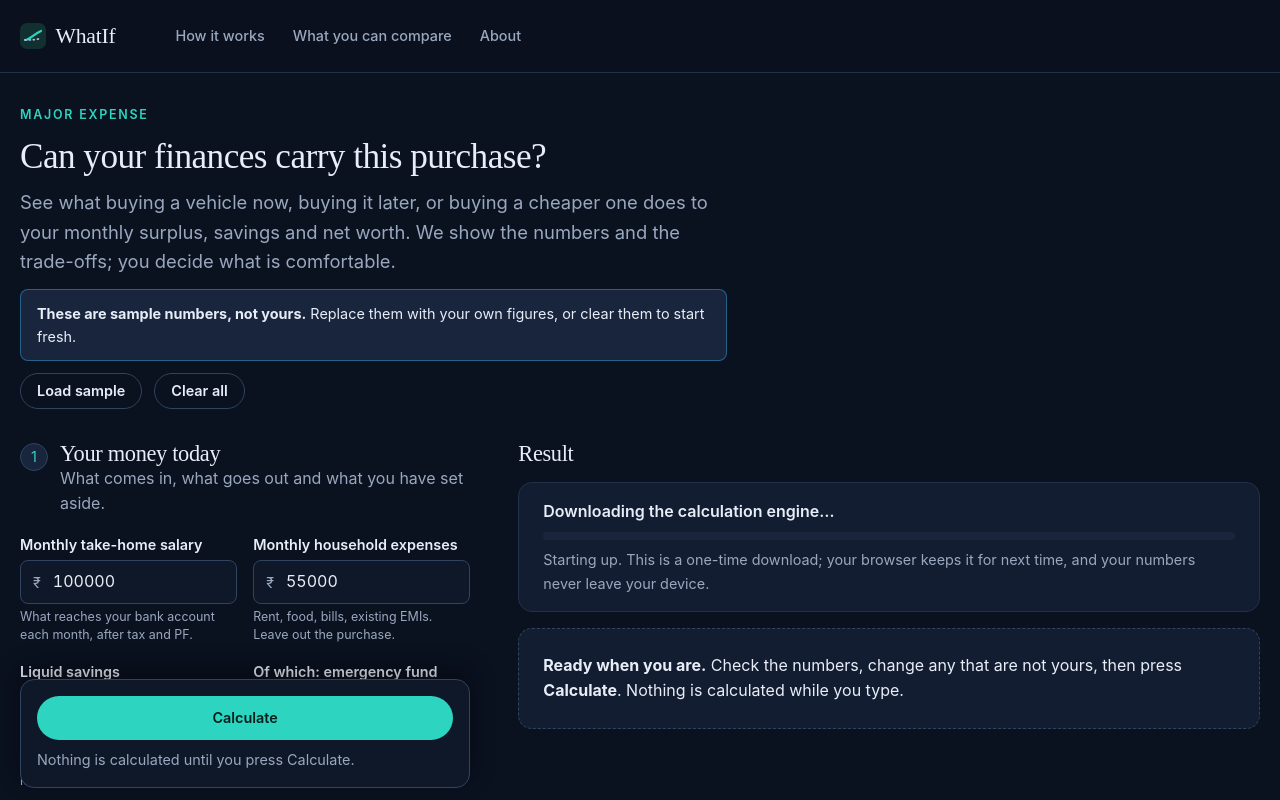
it: major expense page › shows the chosen horizon with net worth, loan and resale shown separately
Click the button "Calculate" at (245, 718), box [37, 696, 453, 740]
(page scrolled)
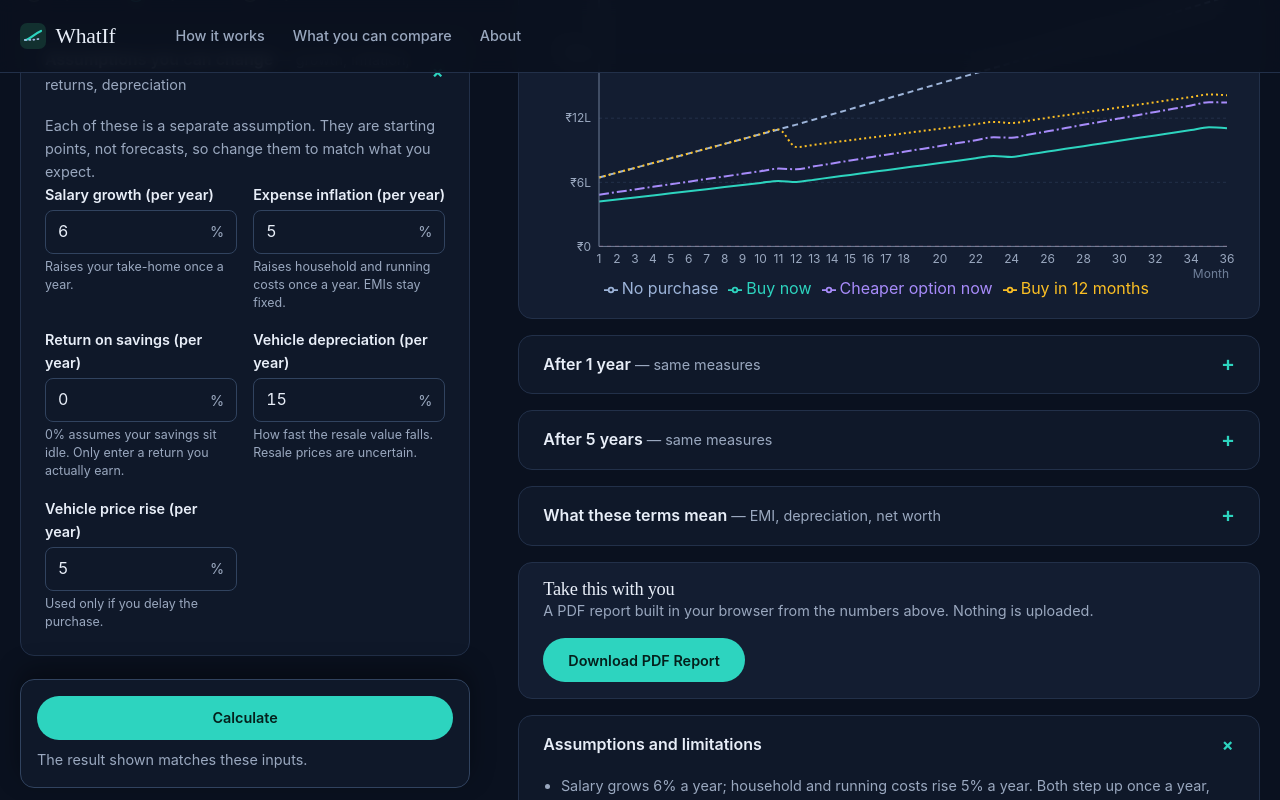
Check: the text "After 1 year" is shown, box [543, 354, 631, 374]
Check: the text "After 5 years" is shown, box [543, 429, 643, 449]
